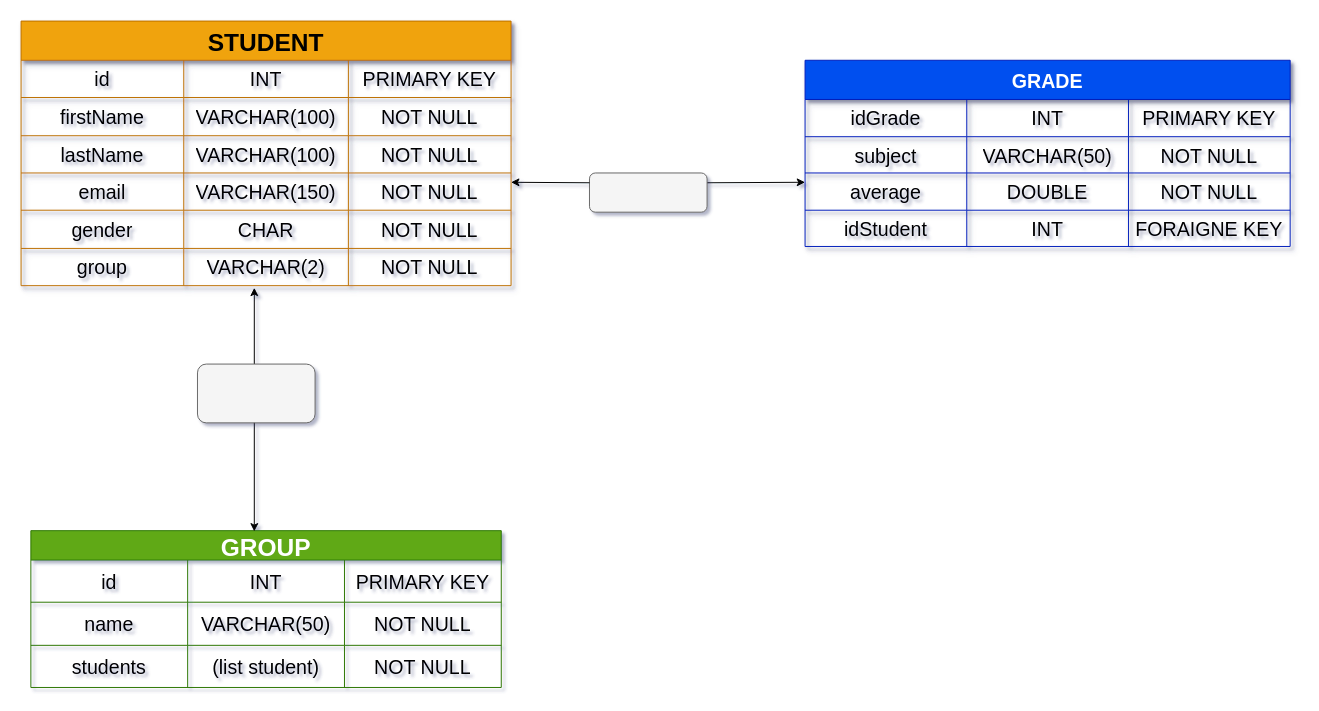
This 1319x711 diagram has some shape labels left out. The centre of each missing label's shape, as x and y in pixels:
"Appertenir" goes at (255,393).
"avoir" goes at (647,192).
